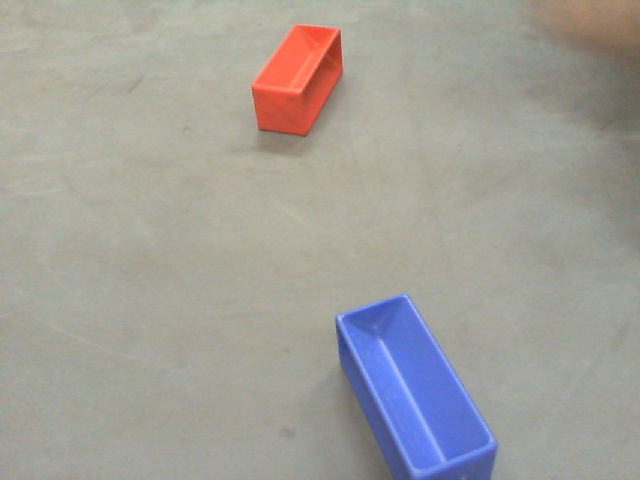BlueSample: (336, 286, 502, 480)
RedSample: (250, 21, 349, 135)
